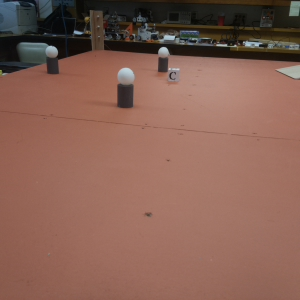blockC: (167, 66, 179, 83)
corner: (89, 10, 105, 50)
obstacle: (117, 69, 135, 107), (45, 46, 59, 74), (156, 48, 169, 72)
